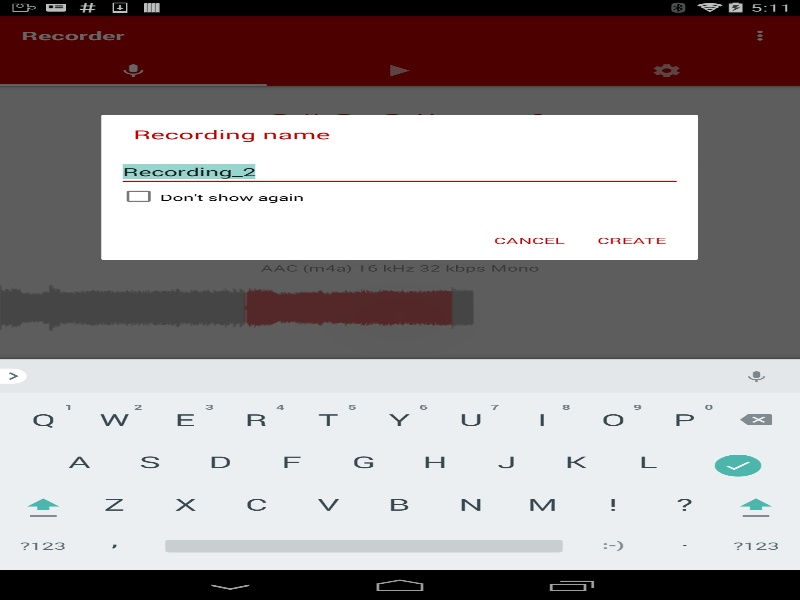Button: (478, 223, 580, 257), (580, 223, 682, 257)
Input: (117, 157, 682, 186)
